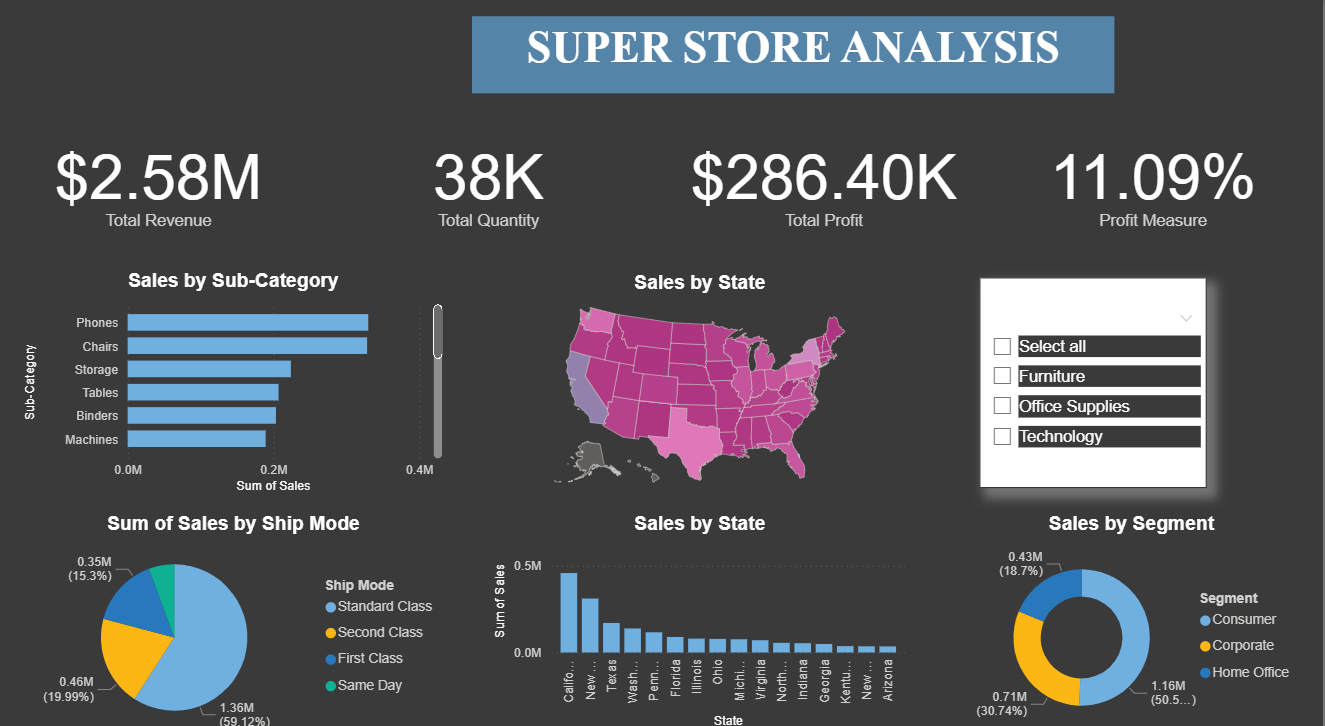

Layout of this report page (visuals, bound fields, positions):
{"tool":"powerbi","page":{"name":"Sales","canvas":[1280,720],"ordinal":0},"visuals":[{"type":"card","fields":{"Values":["SampleSuperstore.Total Revenue"]},"box":[23.3,122.1,266.2,116.6],"z":0},{"type":"card","fields":{"Values":["SampleSuperstore.Total Quantity"]},"box":[332.1,122.1,285.4,116.6],"z":1000},{"type":"card","title":"Total Profit","fields":{"Values":["Sum(SampleSuperstore.Profit)"]},"box":[657.3,122.1,281.3,116.6],"z":2000},{"type":"card","fields":{"Values":["SampleSuperstore.Profit Measure"]},"box":[990.7,122.1,251.1,116.6],"z":3000},{"type":"shapeMap","title":"Sales by State","fields":{"Value":["Sum(SampleSuperstore.Sales)"],"Category":["SampleSuperstore.State"]},"box":[474.8,266.2,406.2,218.2],"z":4000},{"type":"columnChart","title":"Sales by State","fields":{"Y":["Sum(SampleSuperstore.Sales)"],"Category":["SampleSuperstore.State"]},"box":[474.8,499.5,406.2,220.9],"z":5000},{"type":"pieChart","fields":{"Y":["Sum(SampleSuperstore.Sales)"],"Category":["SampleSuperstore.Ship Mode"]},"box":[22,499.5,413,220.9],"z":6000},{"type":"clusteredBarChart","title":"Sales by Sub-Category","fields":{"Category":["SampleSuperstore.Sub-Category"],"Y":["Sum(SampleSuperstore.Sales)"]},"box":[22,264.8,413,219.6],"z":7000},{"type":"donutChart","title":"Sales by Segment","fields":{"Category":["SampleSuperstore.Segment"],"Y":["Sum(SampleSuperstore.Sales)"]},"box":[929,499.5,332.1,220.9],"z":8000},{"type":"slicer","title":"Category","fields":{"Values":["SampleSuperstore.Category"]},"box":[948.2,273.1,219.6,203.1],"z":9000},{"type":"textbox","box":[458.3,20.6,620.2,74.1],"z":10000}]}

Visuals, with their boxes in screenshot pixels (x1, y1, x2, y2), scaled from the page's 1280x720 canvas onto the 1325x726 screenshot:
card - SampleSuperstore.Total Revenue: (24,123,300,241)
card - SampleSuperstore.Total Quantity: (344,123,639,241)
"Total Profit" card: (680,123,972,241)
card - SampleSuperstore.Profit Measure: (1026,123,1285,241)
"Sales by State" shapeMap: (491,268,912,488)
"Sales by State" columnChart: (491,504,912,725)
pieChart - Sum(SampleSuperstore.Sales) x SampleSuperstore.Ship Mode: (23,504,450,725)
"Sales by Sub-Category" clusteredBarChart: (23,267,450,488)
"Sales by Segment" donutChart: (962,504,1305,725)
"Category" slicer: (982,275,1209,480)
textbox: (474,21,1116,95)
